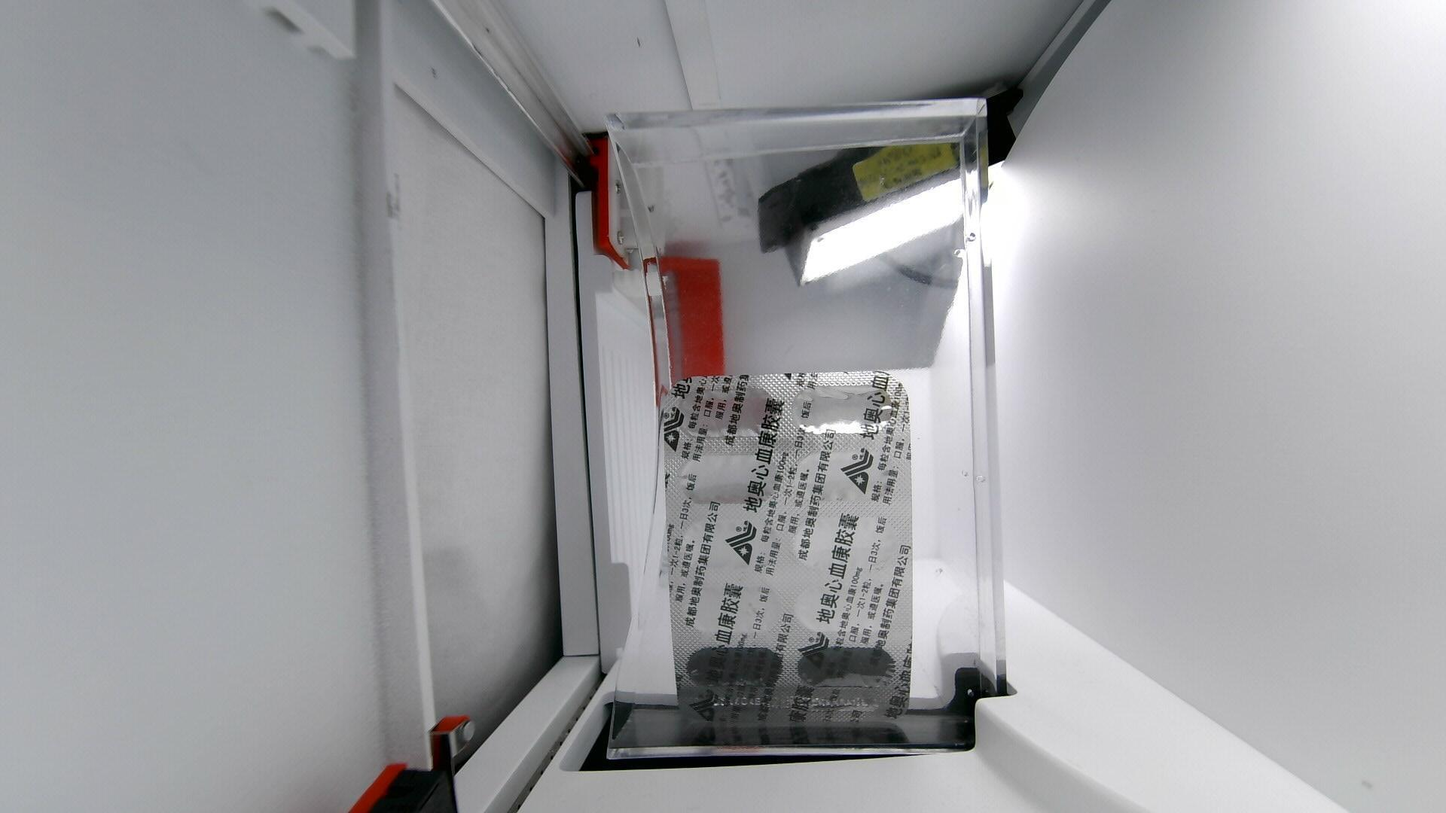Pill Back: (674, 452, 780, 507), (795, 380, 897, 436), (798, 579, 900, 635), (669, 388, 780, 439), (679, 519, 779, 574), (795, 448, 893, 501), (684, 584, 783, 635), (797, 513, 892, 565), (688, 643, 786, 693), (792, 648, 900, 692)
